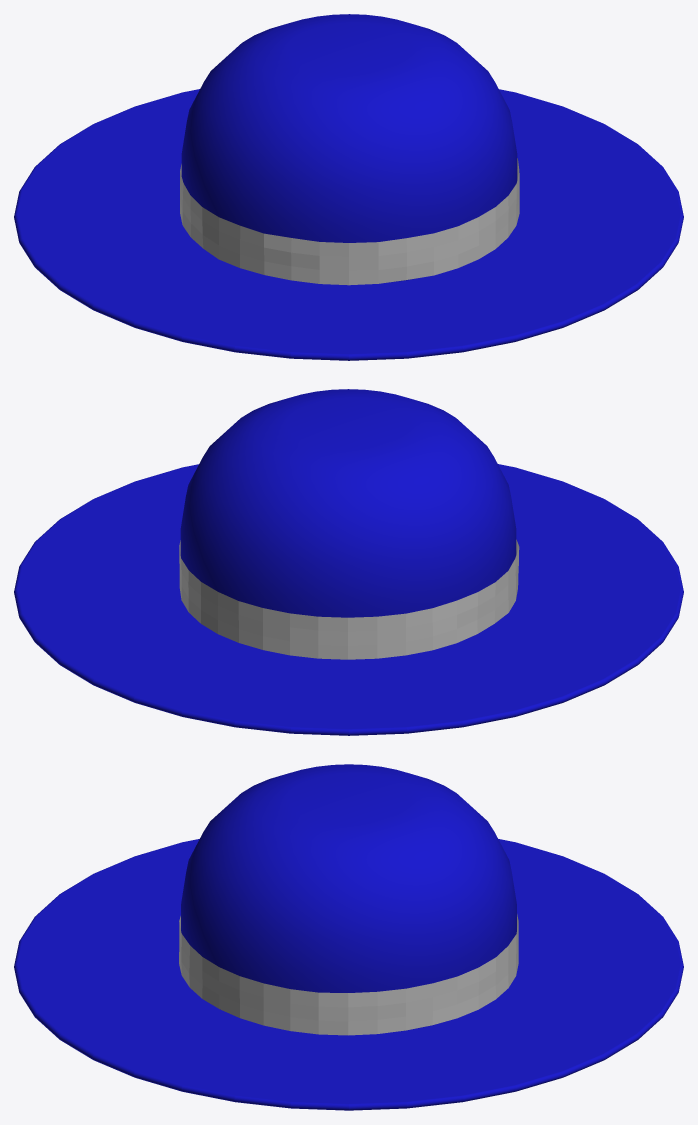
File: blueSummerHat.fbx
3 renders of one model, top to bottom at view 1: azimuth 30°, elevation 25°; view 2: azimuth 150°, elevation 25°; view 3: azimuth 270°, elevation 25°, orthographic.
Visible parts, largest first — view 1: Base, Cylinder_1, ribon; view 2: Base, Cylinder_1, ribon; view 3: Base, Cylinder_1, ribon.
Boxes of the visible parts, x1=… form: Base: x1=14, y1=89, x2=683, y2=360; Cylinder_1: x1=181, y1=14, x2=517, y2=282; ribon: x1=180, y1=158, x2=519, y2=285; Base: x1=14, y1=464, x2=683, y2=735; Cylinder_1: x1=180, y1=389, x2=516, y2=659; ribon: x1=179, y1=539, x2=519, y2=659; Base: x1=14, y1=839, x2=683, y2=1110; Cylinder_1: x1=181, y1=764, x2=516, y2=1031; ribon: x1=179, y1=914, x2=518, y2=1035.
Bounding box in the file's own units: 1400 × 395 × 1400.
